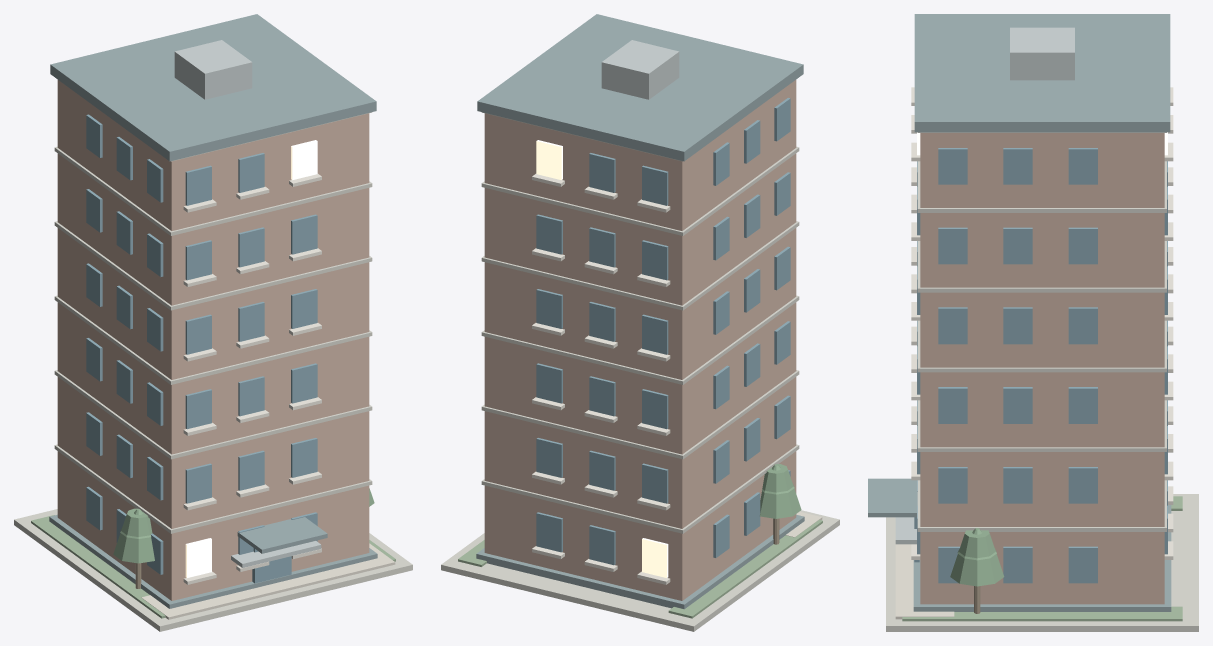
File: remaster_office_11.glb
3 renders of one model, left to right at view 1: azimuth 30°, elevation 25°; view 2: azimuth 150°, elevation 25°; view 3: azimuth 270°, elevation 25°, orthographic. The views are drawn at different scales.
Visible parts, largest first — view 1: remaster_office_11 brick, remaster_office_11 roof, remaster_office_11 glass, remaster_office_11 stone, remaster_office_11 metal, remaster_office_11 white, remaster_office_11 cream, remaster_office_11 green, remaster_office_11 warm, remaster_office_11 leaf; view 2: remaster_office_11 brick, remaster_office_11 roof, remaster_office_11 glass, remaster_office_11 stone, remaster_office_11 white, remaster_office_11 metal, remaster_office_11 green, remaster_office_11 warm, remaster_office_11 leaf; view 3: remaster_office_11 brick, remaster_office_11 roof, remaster_office_11 glass, remaster_office_11 stone, remaster_office_11 metal, remaster_office_11 white, remaster_office_11 green, remaster_office_11 leaf, remaster_office_11 cream.
Part boxes in pixels (box(x1,y1,x2,y2)): remaster_office_11 brick: box(57, 80, 369, 600); remaster_office_11 roof: box(49, 14, 377, 608); remaster_office_11 glass: box(86, 114, 317, 583); remaster_office_11 stone: box(14, 112, 412, 631); remaster_office_11 metal: box(174, 40, 321, 567); remaster_office_11 white: box(183, 174, 321, 584); remaster_office_11 cream: box(141, 543, 395, 619); remaster_office_11 green: box(31, 515, 395, 618); remaster_office_11 warm: box(185, 140, 317, 577); remaster_office_11 leaf: box(113, 488, 374, 563); remaster_office_11 brick: box(484, 80, 796, 600); remaster_office_11 roof: box(476, 14, 804, 609); remaster_office_11 glass: box(536, 98, 790, 565); remaster_office_11 stone: box(441, 112, 839, 631); remaster_office_11 white: box(532, 174, 670, 584); remaster_office_11 metal: box(601, 40, 679, 99); remaster_office_11 green: box(458, 519, 822, 618); remaster_office_11 warm: box(536, 140, 668, 577); remaster_office_11 leaf: box(760, 464, 801, 518); remaster_office_11 brick: box(920, 133, 1164, 604); remaster_office_11 roof: box(868, 14, 1171, 611); remaster_office_11 glass: box(914, 148, 1167, 583); remaster_office_11 stone: box(886, 132, 1198, 631); remaster_office_11 metal: box(895, 27, 1074, 544); remaster_office_11 white: box(911, 87, 1173, 559); remaster_office_11 green: box(902, 496, 1182, 621); remaster_office_11 leaf: box(950, 528, 1004, 586); remaster_office_11 cream: box(895, 544, 954, 619).
Bounding box in the file's own units: 9.64 × 17.8 × 10.15.
